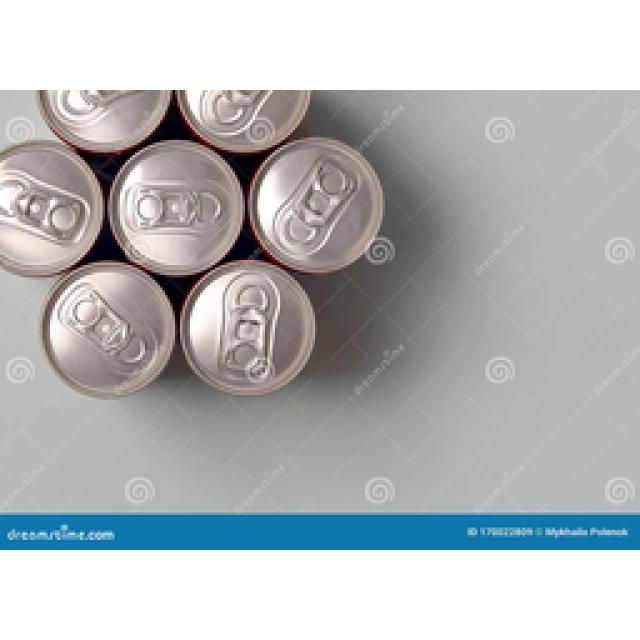aluminum_soda_cans: (252, 133, 385, 272), (38, 267, 178, 393), (188, 267, 317, 395), (115, 144, 238, 258), (0, 137, 105, 268)
